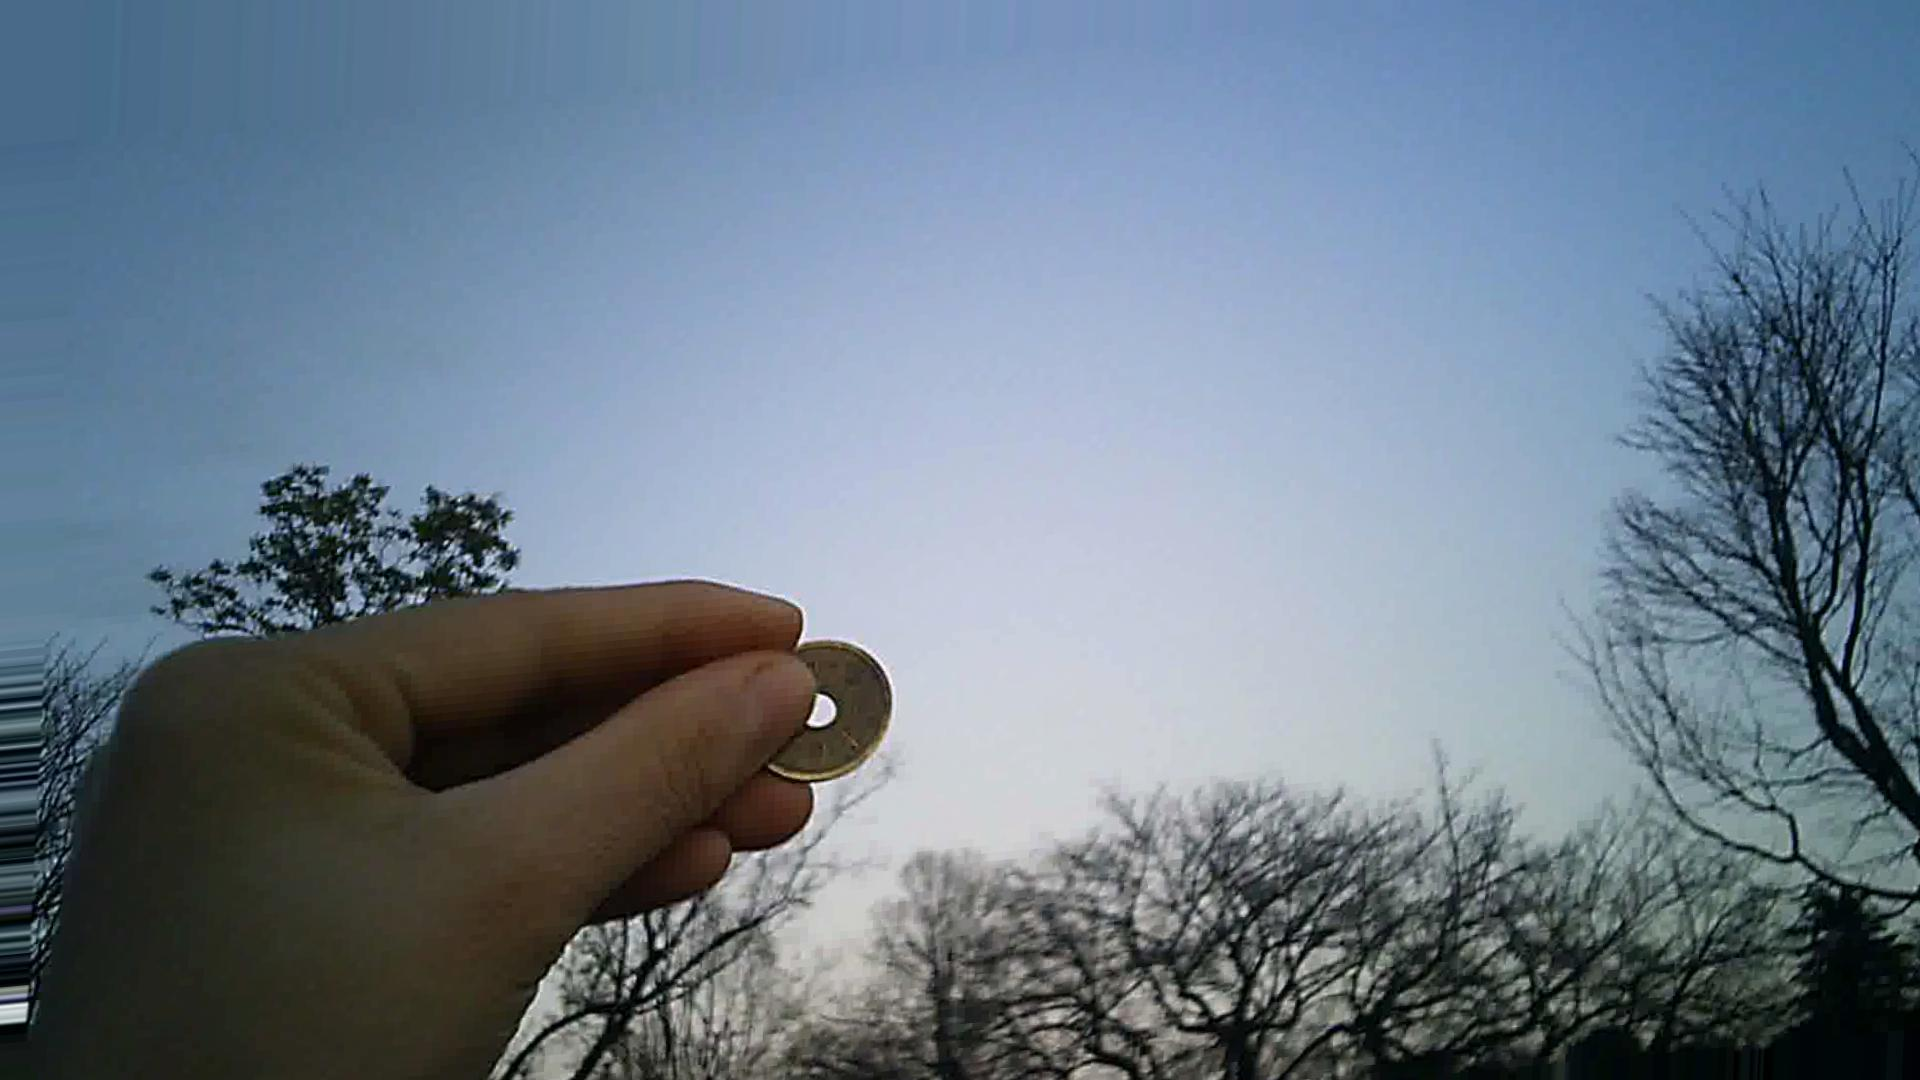5 Yen: (742, 630, 907, 789)
